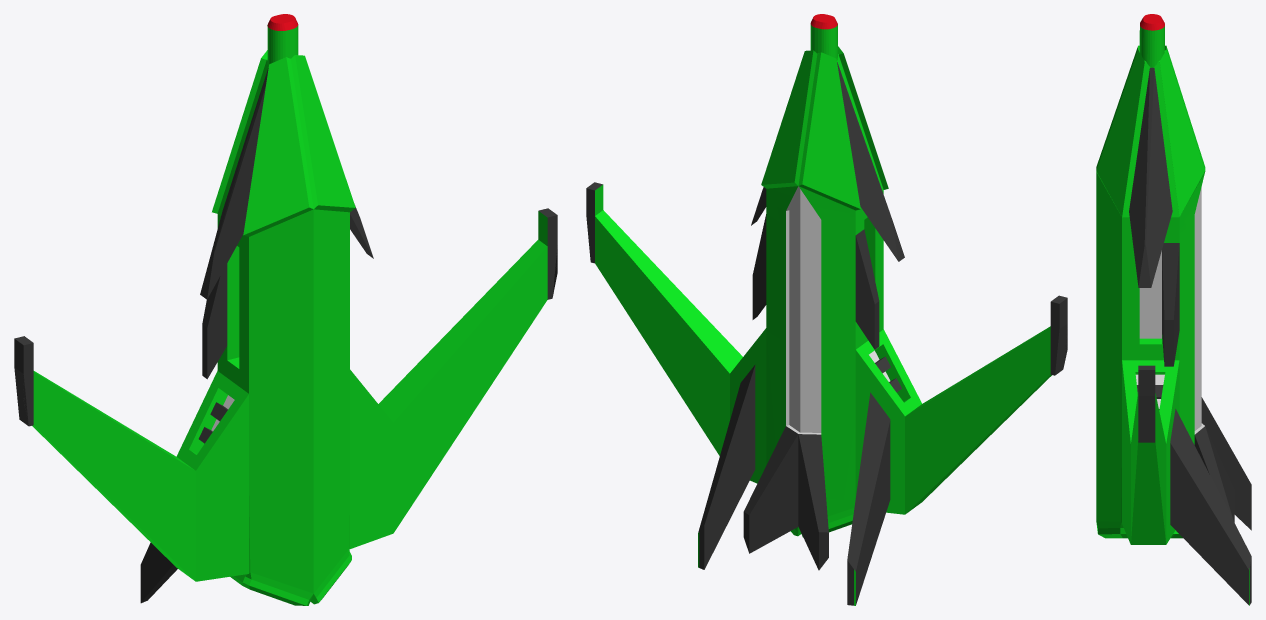
The model's file is Flyer3.fbx.
3 renders of one model, left to right at view 1: azimuth 30°, elevation 25°; view 2: azimuth 150°, elevation 25°; view 3: azimuth 270°, elevation 25°, orthographic. The views are drawn at different scales.
Visible parts, largest first — view 1: Cube.002; view 2: Cube.002; view 3: Cube.002.
Part boxes in pixels (x1=…): Cube.002: x1=14, y1=14, x2=557, y2=605; Cube.002: x1=586, y1=14, x2=1067, y2=605; Cube.002: x1=1096, y1=14, x2=1251, y2=605.
Size of the model in its own units: 1029 by 1109 by 285.
